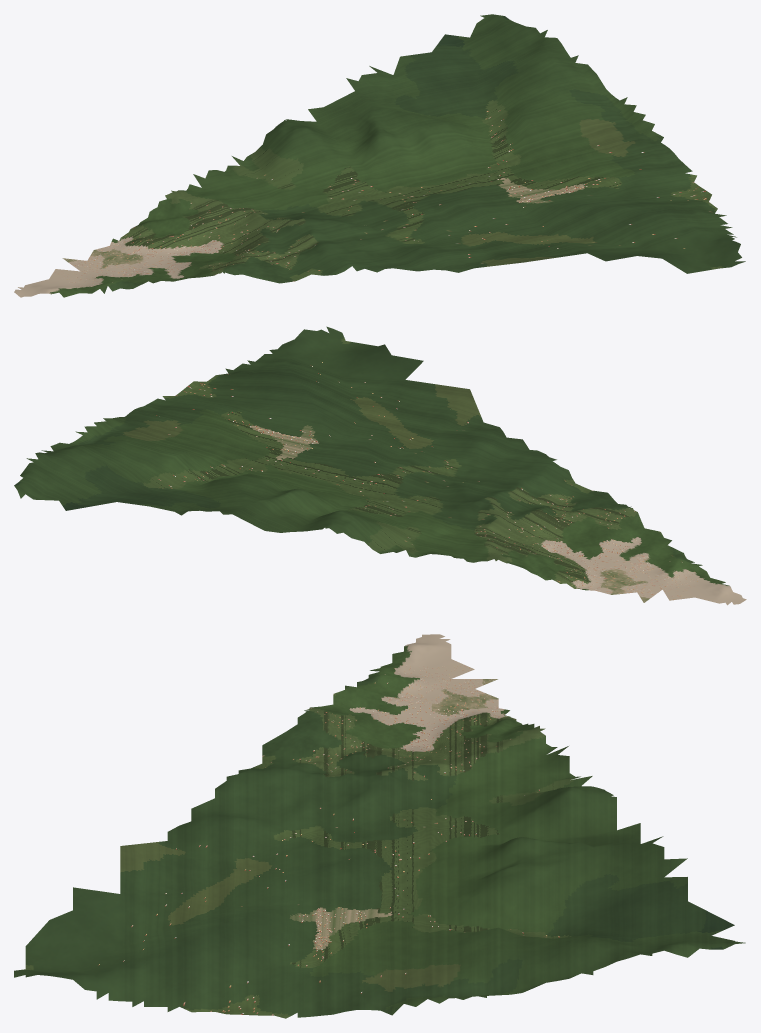
Rendered from SM_Fondale_Colline_NO_LOD1.fbx.
3 views of the same model, one above another, from view 1: azimuth 30°, elevation 25°; view 2: azimuth 150°, elevation 25°; view 3: azimuth 270°, elevation 25° (orthographic). The views are drawn at different scales.
Visible parts, largest first — view 1: SM_Fondale_Colline_NO_LOD1; view 2: SM_Fondale_Colline_NO_LOD1; view 3: SM_Fondale_Colline_NO_LOD1.
Part boxes in pixels (x1=…): SM_Fondale_Colline_NO_LOD1: x1=14, y1=14, x2=745, y2=297; SM_Fondale_Colline_NO_LOD1: x1=14, y1=326, x2=746, y2=605; SM_Fondale_Colline_NO_LOD1: x1=14, y1=634, x2=745, y2=1018.
Bounding box in the file's own units: 960000 × 744000 × 77463.
1 material, 1 textured.
